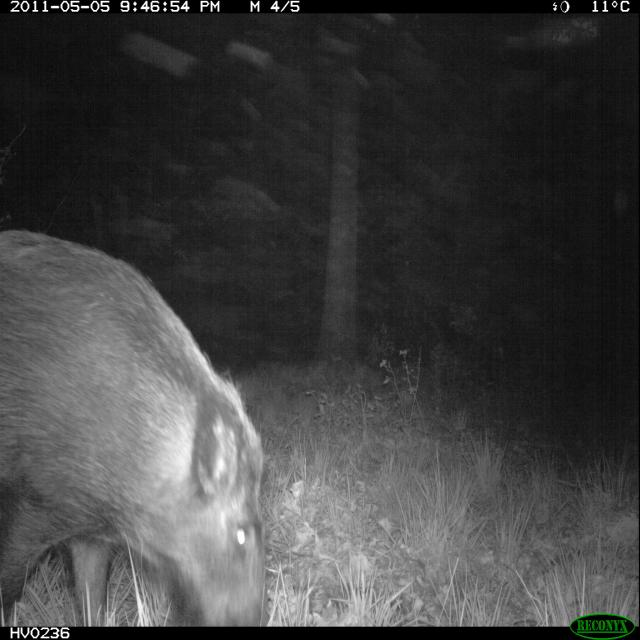boar: (2, 206, 290, 619)
